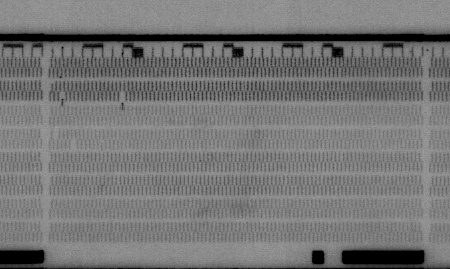Broken hole: (68, 139, 80, 153), (51, 128, 61, 141)
Oblique printing: (117, 91, 128, 108), (57, 90, 67, 105)
